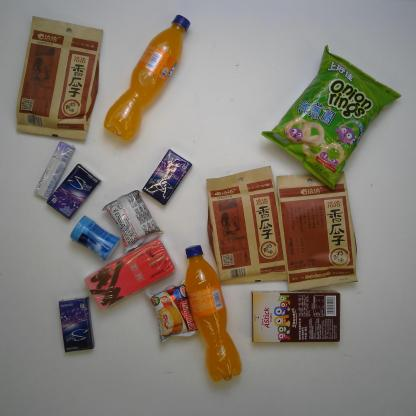Candy: (35, 141, 76, 202)
Dessert: (250, 288, 343, 346), (103, 188, 162, 250), (147, 281, 200, 341)
Dried Food: (15, 14, 104, 144), (274, 168, 361, 293), (203, 164, 291, 286)
Drink: (102, 14, 192, 144), (180, 245, 244, 384)
Gum: (46, 163, 101, 218), (142, 148, 193, 206), (69, 216, 121, 262), (56, 297, 96, 355)
Instant Drink: (82, 240, 177, 311)
Puffed Food: (260, 43, 402, 190)
